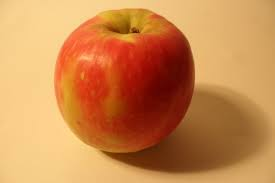apple: (54, 9, 195, 152)
